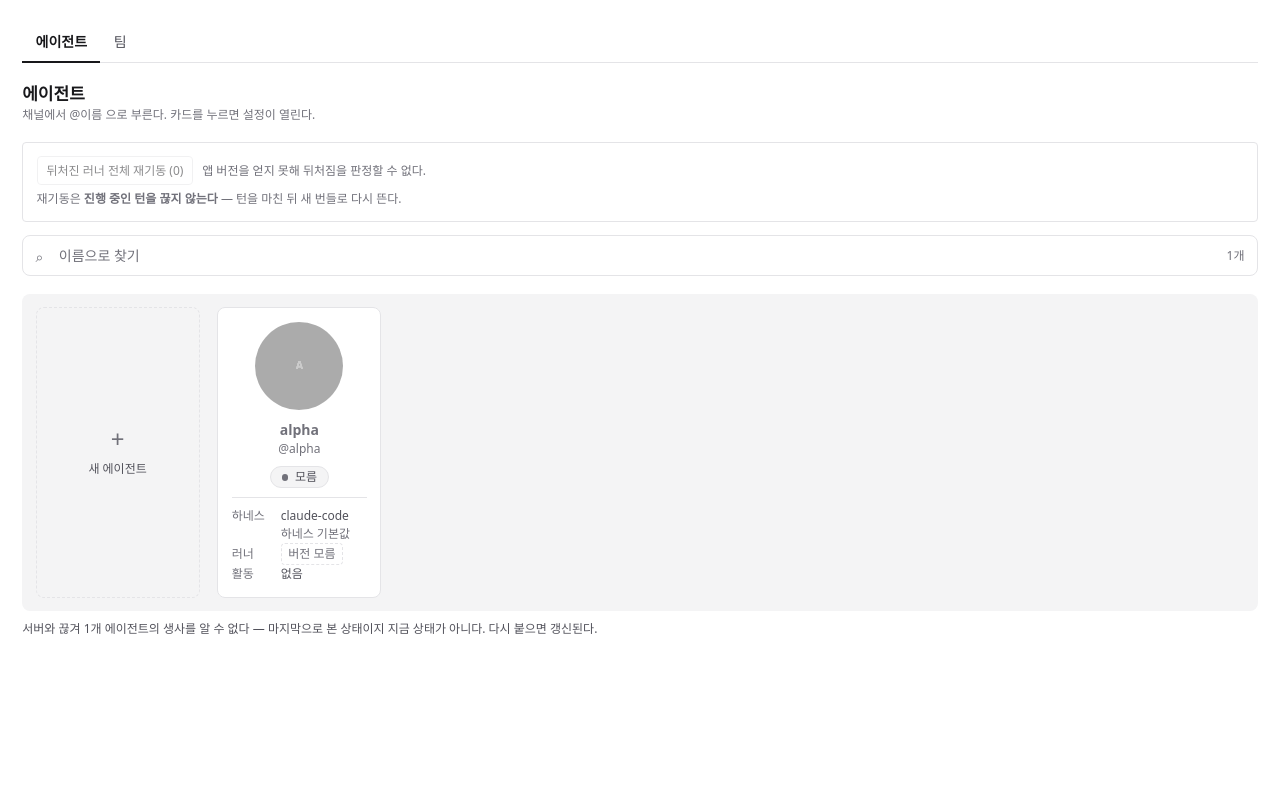
Test: AgentsSettings — 러너 실행·중지 토글(#427, #493) › 러너가 읽어 간 뒤에도 실행으로 다시 켤 수 있다 — 그 뒤가 오히려 다시 켤 일이 생기는 자리다
Click the button "A alpha @alpha".
click(299, 390)  # box [232, 322, 367, 458]
(page scrolled)
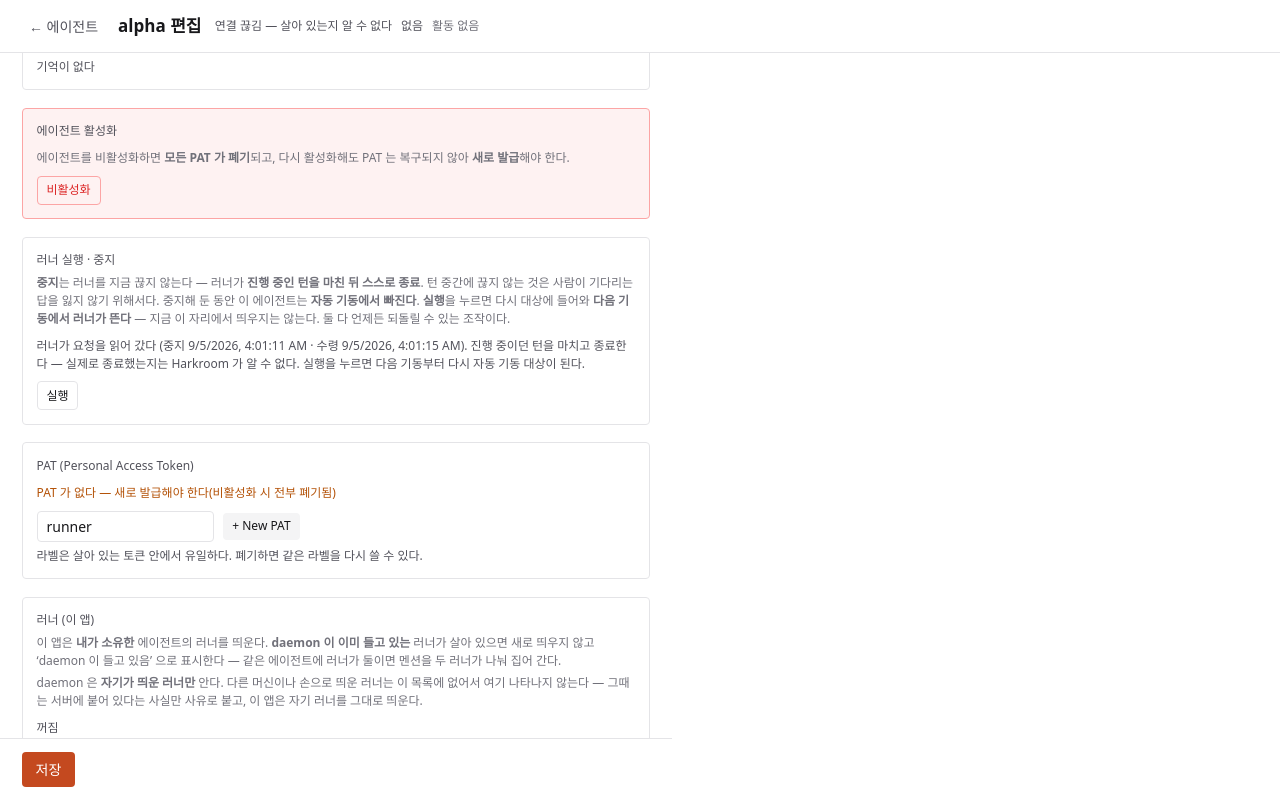
Check: the button with aria-label "러너 실행" is shown, box [37, 381, 78, 410]
